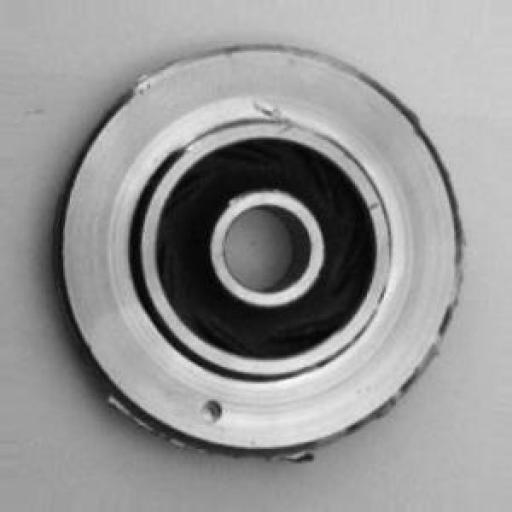defect: (42, 25, 481, 472), (160, 365, 246, 456), (228, 90, 304, 150)
